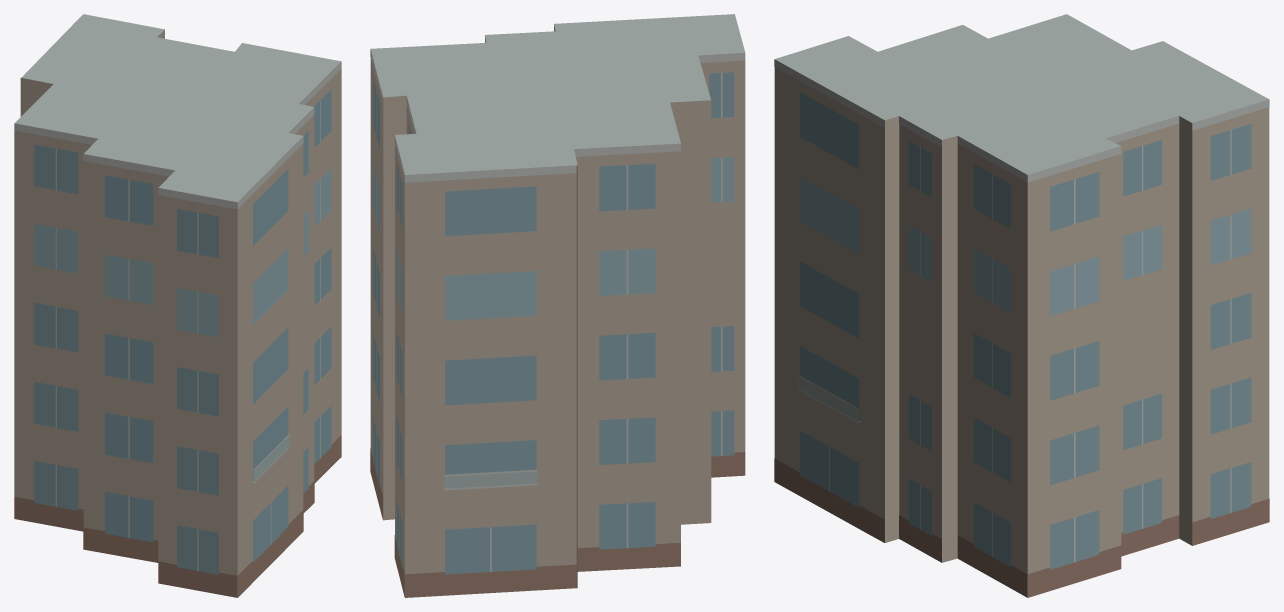
Rendered from survey-upis-32620862.glb.
3 renders of one model, left to right at view 1: azimuth 30°, elevation 25°; view 2: azimuth 150°, elevation 25°; view 3: azimuth 270°, elevation 25°, orthographic. The views are drawn at different scales.
Parts seen in each view (by area): view 1: survey-upis-32620862.tmp; view 2: survey-upis-32620862.tmp; view 3: survey-upis-32620862.tmp.
Part boxes in pixels (left/top/right/bottom): survey-upis-32620862.tmp: left=14, top=14, right=341, bottom=597; survey-upis-32620862.tmp: left=370, top=14, right=745, bottom=597; survey-upis-32620862.tmp: left=774, top=14, right=1269, bottom=597.
Bounding box in the file's own units: 10.96 × 13.4 × 14.23.
